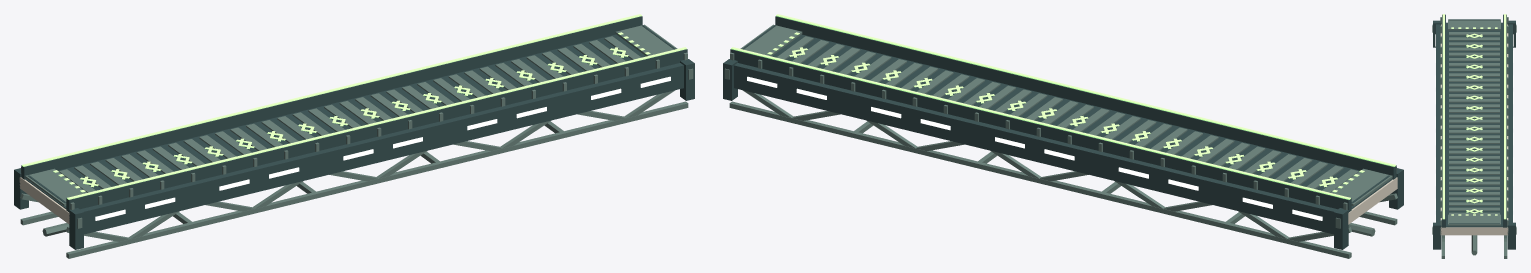
The model's file is Deck_Conveyor_Belt_v4_20_lab.glb.
3 renders of one model, left to right at view 1: azimuth 30°, elevation 25°; view 2: azimuth 150°, elevation 25°; view 3: azimuth 270°, elevation 25°, orthographic. The views are drawn at different scales.
Parts seen in each view (by area): view 1: Deck_Conveyor_Belt_v4_20, Treads, TreadsRev; view 2: Deck_Conveyor_Belt_v4_20, Treads, TreadsRev; view 3: Deck_Conveyor_Belt_v4_20, Treads, TreadsRev.
Boxes of the visible parts, x1,y1,x2,y2 form: Deck_Conveyor_Belt_v4_20: (14, 14, 694, 258); Treads: (59, 36, 641, 192); TreadsRev: (59, 36, 640, 192); Deck_Conveyor_Belt_v4_20: (723, 14, 1403, 258); Treads: (776, 36, 1358, 192); TreadsRev: (777, 36, 1358, 192); Deck_Conveyor_Belt_v4_20: (1432, 14, 1516, 258); Treads: (1449, 32, 1499, 214); TreadsRev: (1449, 32, 1499, 214).
Size of the model in its own units: 20.05 by 1.83 by 3.48.
